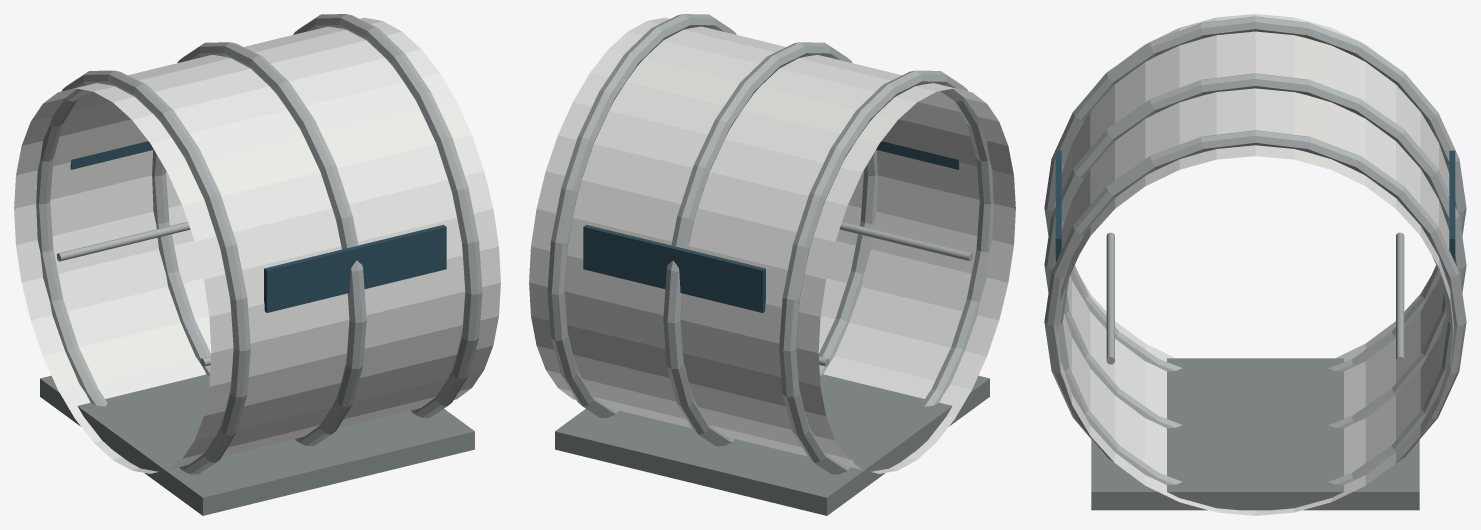
File: passage-ew.glb
The picture shows the model from 3 angles, left to right: view 1: azimuth 30°, elevation 25°; view 2: azimuth 150°, elevation 25°; view 3: azimuth 270°, elevation 25°; orthographic projection.
Parts seen in each view (by area): view 1: Pressure tube, Floor, Rib 0, Rib 1, Rib 2, Window band, Handrail.001, Window band.001; view 2: Pressure tube, Floor, Rib 0, Rib 1, Rib 2, Window band.001, Handrail, Window band; view 3: Pressure tube, Floor, Rib 2, Rib 1, Rib 0, Handrail, Handrail.001, Window band, Window band.001.
Boxes of the visible parts, bbox=[...] form: Pressure tube: bbox=[14, 17, 500, 473]; Floor: bbox=[40, 374, 474, 515]; Rib 0: bbox=[36, 70, 250, 474]; Rib 1: bbox=[152, 42, 366, 446]; Rib 2: bbox=[293, 14, 482, 417]; Window band: bbox=[264, 225, 446, 312]; Handrail.001: bbox=[57, 221, 190, 261]; Window band.001: bbox=[70, 141, 153, 169]; Pressure tube: bbox=[529, 17, 1015, 473]; Floor: bbox=[555, 374, 989, 515]; Rib 0: bbox=[779, 70, 993, 474]; Rib 1: bbox=[663, 42, 877, 446]; Rib 2: bbox=[547, 14, 736, 417]; Window band.001: bbox=[583, 225, 765, 312]; Handrail: bbox=[839, 221, 972, 261]; Window band: bbox=[876, 141, 959, 169]; Pressure tube: bbox=[1057, 14, 1453, 515]; Floor: bbox=[1091, 358, 1419, 510]; Rib 2: bbox=[1044, 130, 1466, 485]; Rib 1: bbox=[1044, 73, 1466, 428]; Rib 0: bbox=[1044, 16, 1466, 371]; Handrail: bbox=[1106, 232, 1114, 364]; Handrail.001: bbox=[1396, 232, 1404, 364]; Window band: bbox=[1055, 150, 1061, 262]; Window band.001: bbox=[1449, 150, 1455, 262].
Size of the model in its own units: 2 by 2.51 by 2.51.
